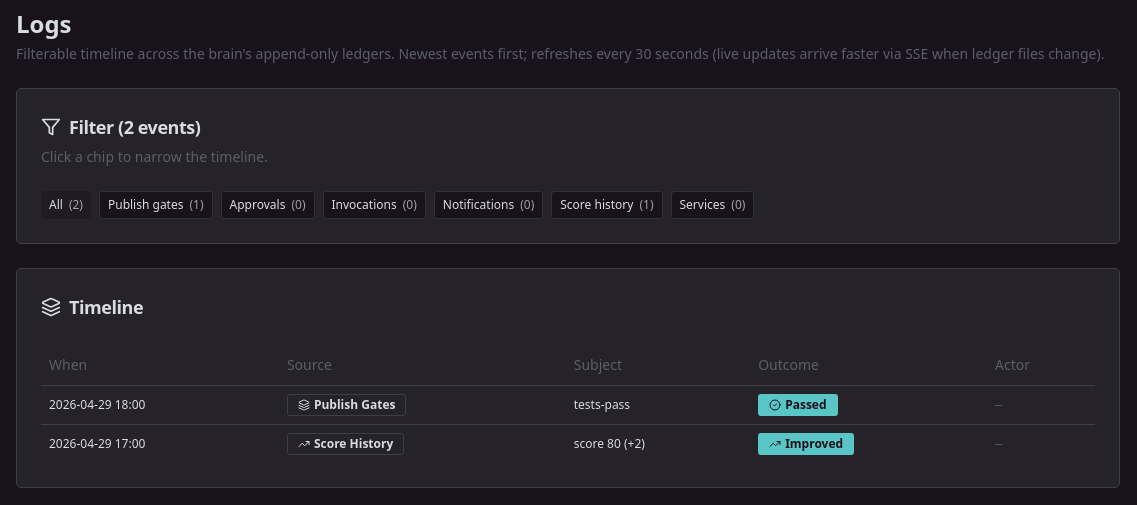
Test: LogsPage › score-history filter chip narrows the timeline to score events only
This screenshot has width=1137, height=505.
Expected: the table with test id "logs-timeline" is shown, x1=41 y1=345 x2=1095 y2=462
Expected: the text "tests-pass" is shown, x1=566 y1=385 x2=750 y2=424
Note: Click the score-history chip → only score events remain.
Click the button with test id "filter-score-history" at (607,205), box x1=551 y1=191 x2=662 y2=219
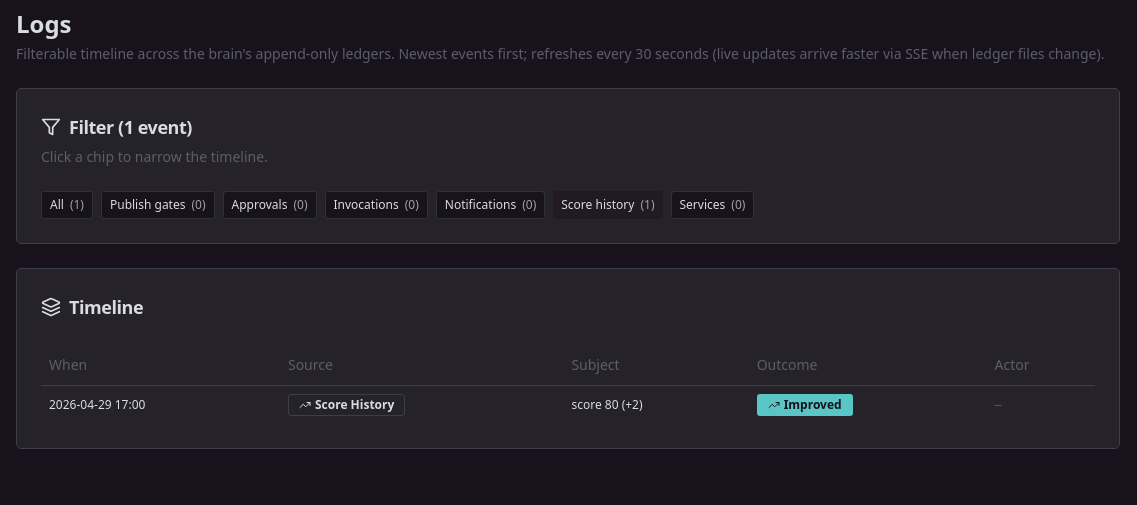
Expected: the text "score 80 (+2)" is shown, x1=563 y1=385 x2=749 y2=424
Now the button "tests-pass" is gone
